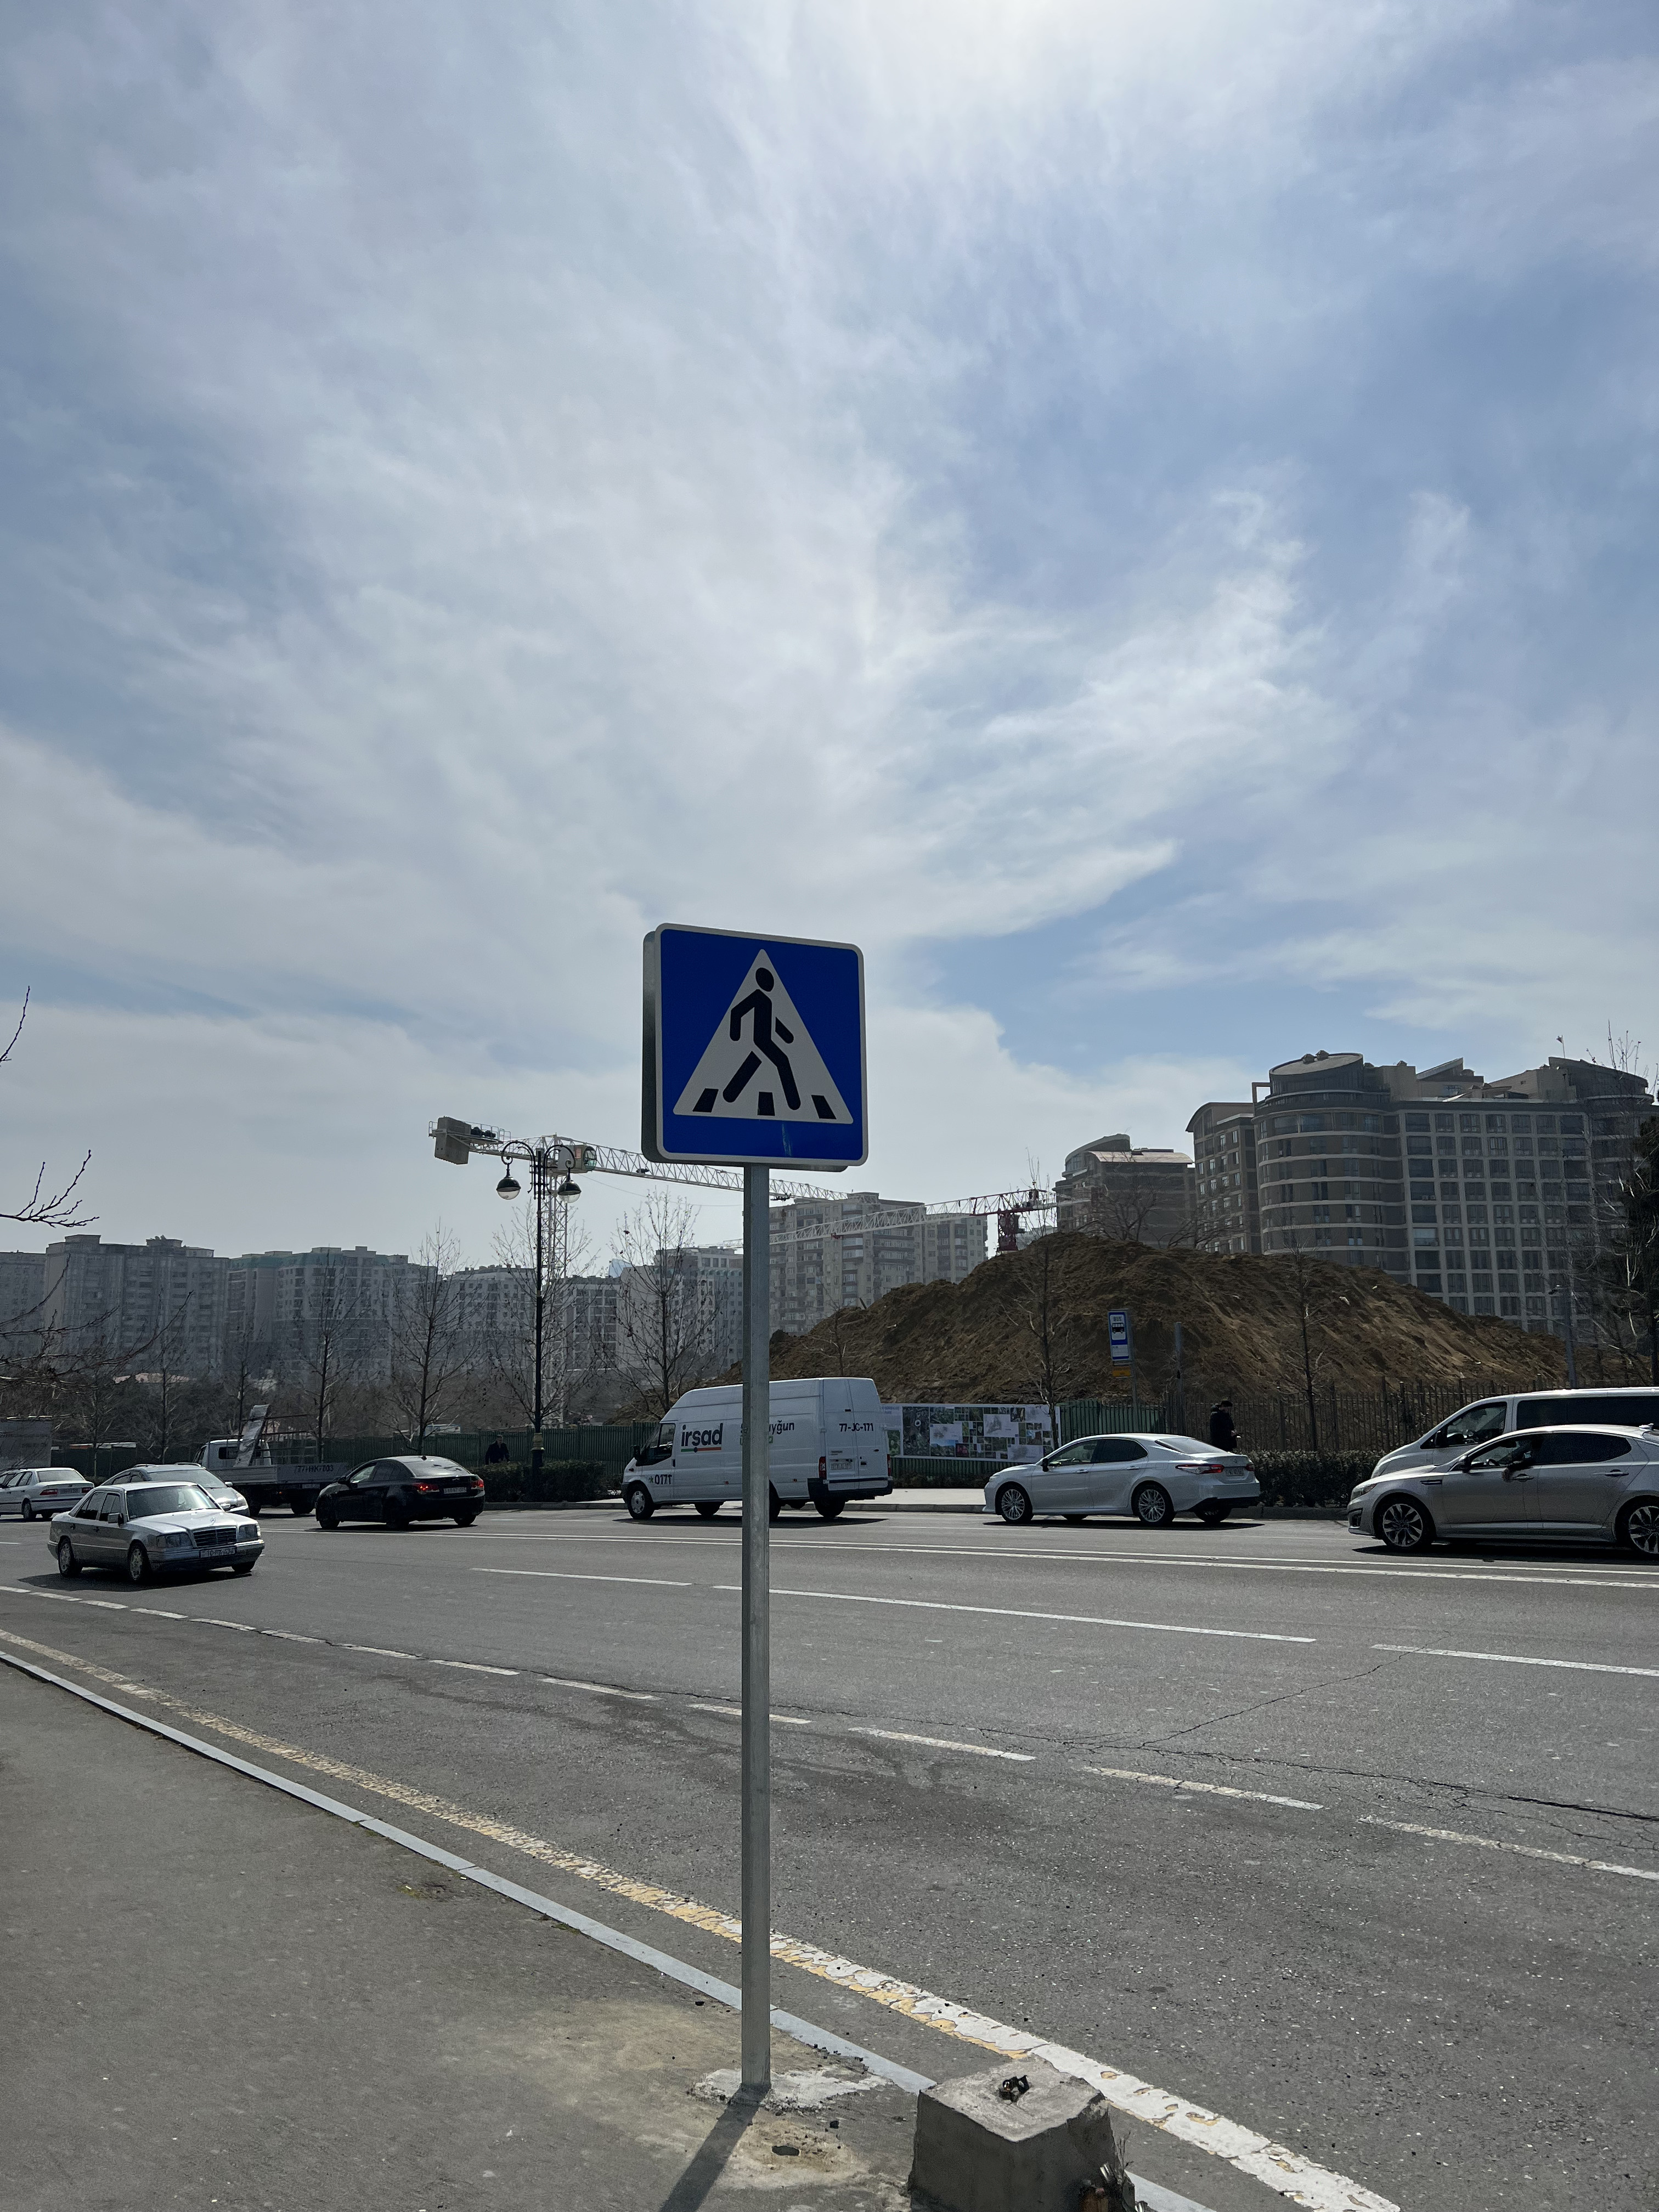Pedestrian Crossing: (652, 923, 868, 1167)
